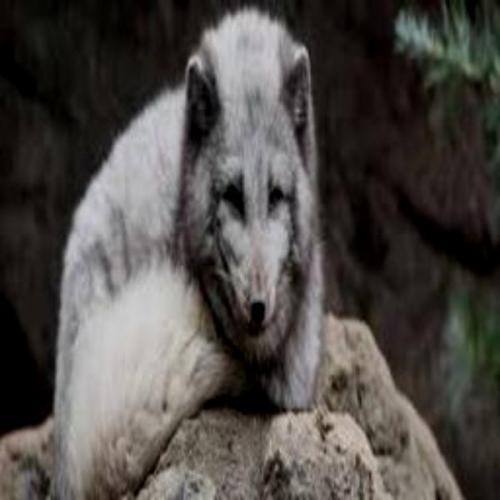arctic_fox-endangered: (52, 19, 327, 494)
